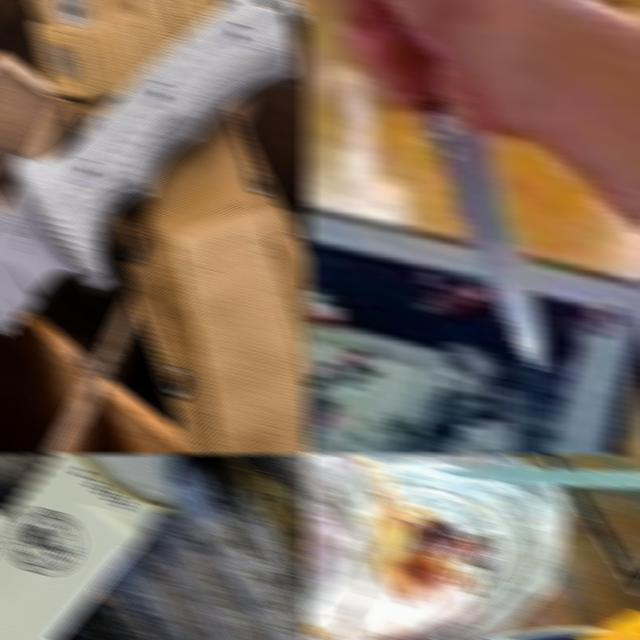Knife_Handle: (304, 0, 545, 370)
